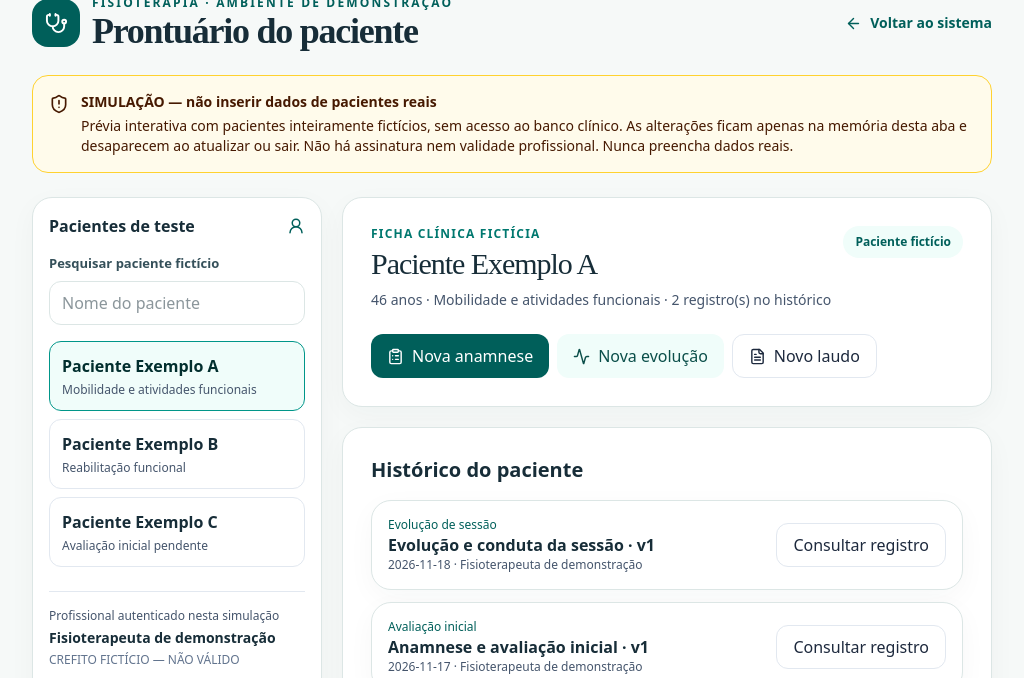
Test: prévia pública de prontuário com dados apenas fictícios › mostra o fluxo completo no navegador sem acessar nenhuma API clínica ou de simulação
This screenshot has width=1024, height=678.
Expected: the heading "Prontuário do paciente" is shown, 92,11 -> 453,51
Expected: the text "As alterações ficam apenas na memória desta aba" is shown, 81,116 -> 967,155
Click the button "Novo laudo" at (804, 356), box 732,334 -> 877,378
(page scrolled)
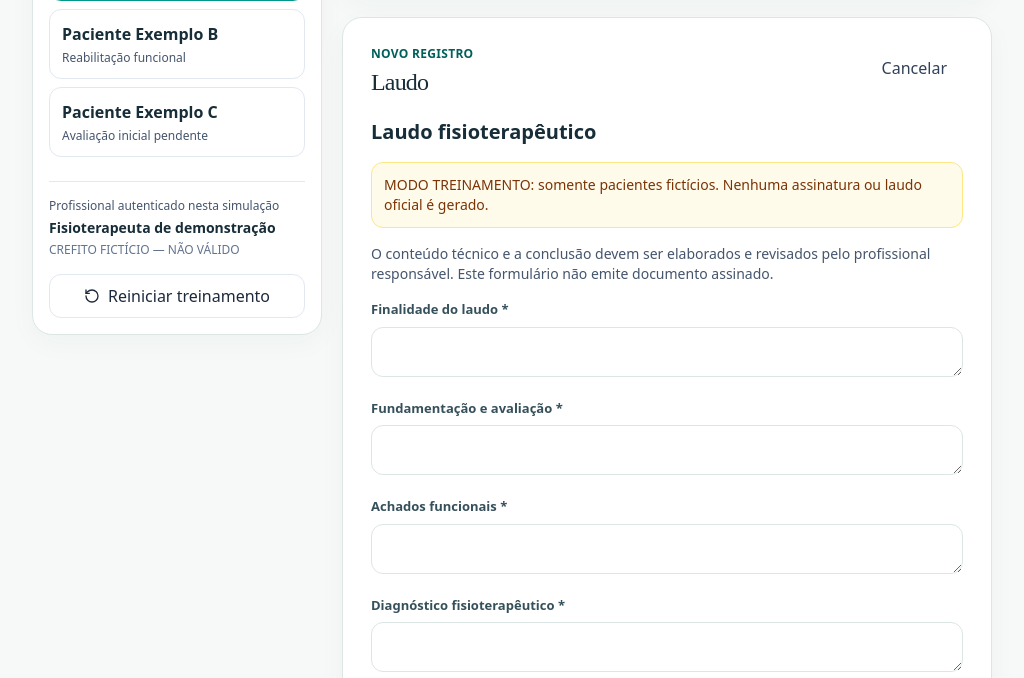
Type "Demonstração do fluxo de avaliação" into the text box labelled "Finalidade do laudo *" at (667, 352), box 371,326 -> 963,376
Type "Avaliação simulada" into the text box labelled "Fundamentação e avaliação *" at (667, 450), box 371,425 -> 963,475
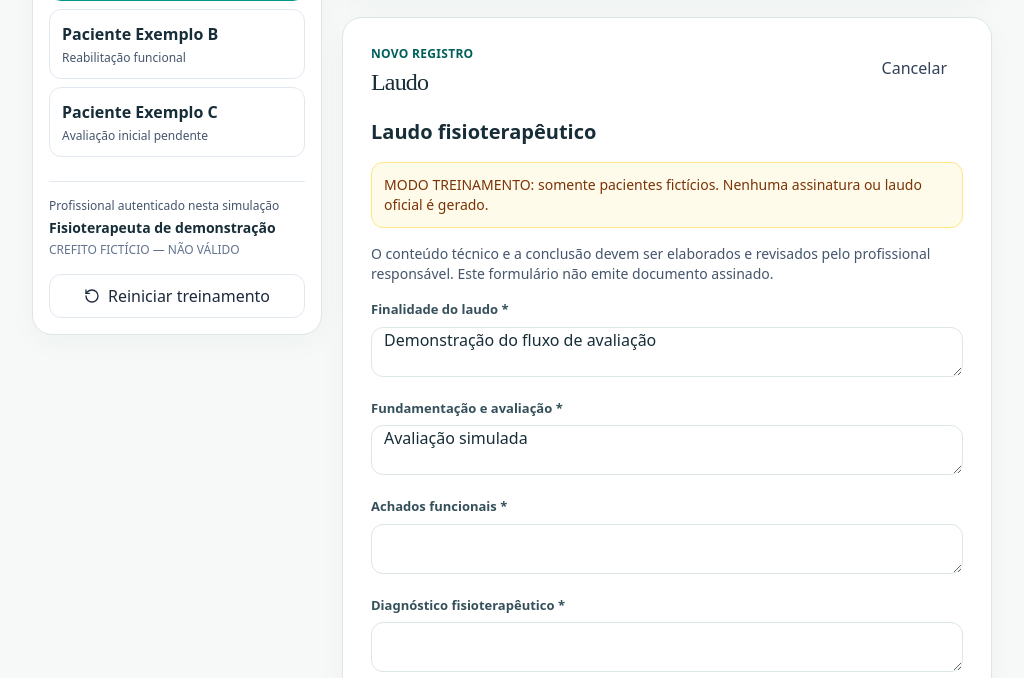
Type "Achados simulados" into the text box labelled "Achados funcionais *" at (667, 548), box 371,524 -> 963,574
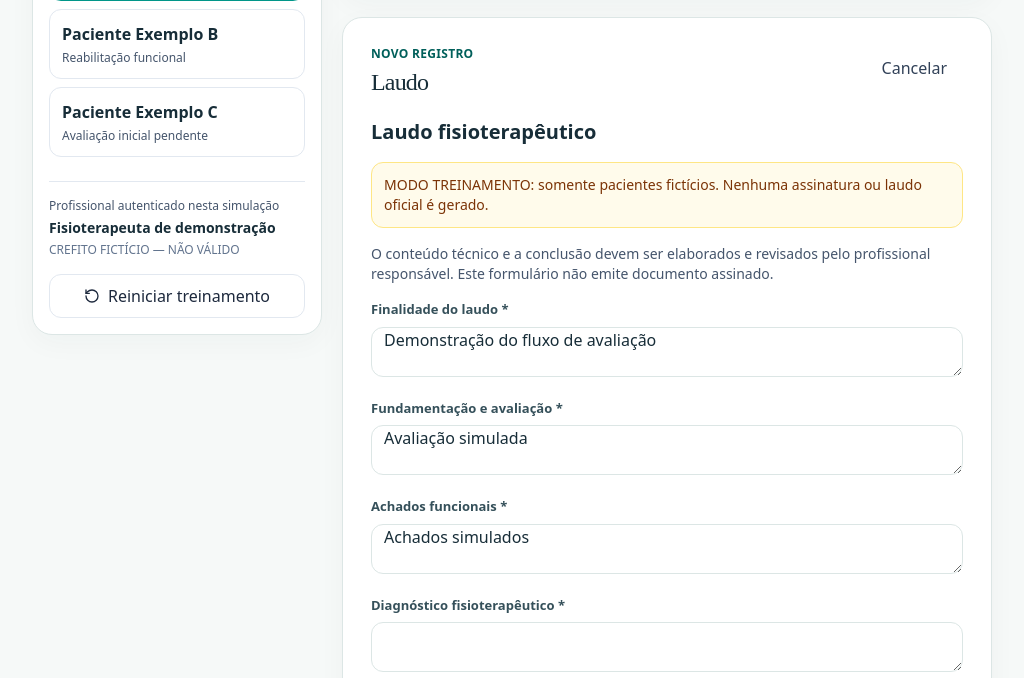
Type "Diagnóstico inteiramente fictício" into the text box labelled "Diagnóstico fisioterapêutico *" at (667, 647), box 371,622 -> 963,672
(page scrolled)
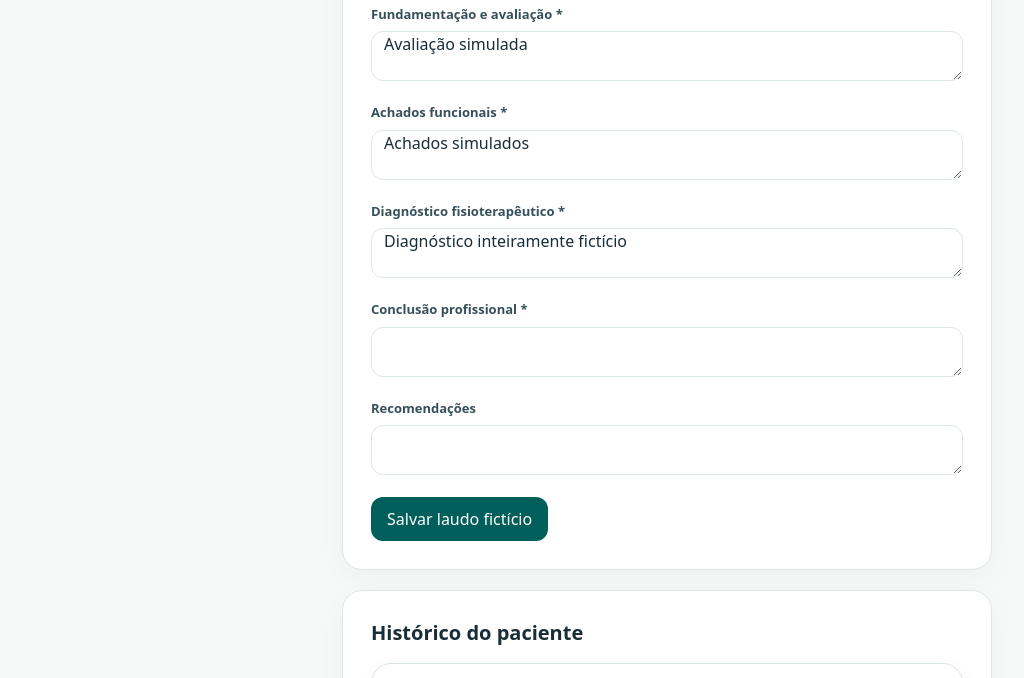
Type "Conclusão temporária" into the text box labelled "Conclusão profissional *" at (667, 352), box 371,326 -> 963,376
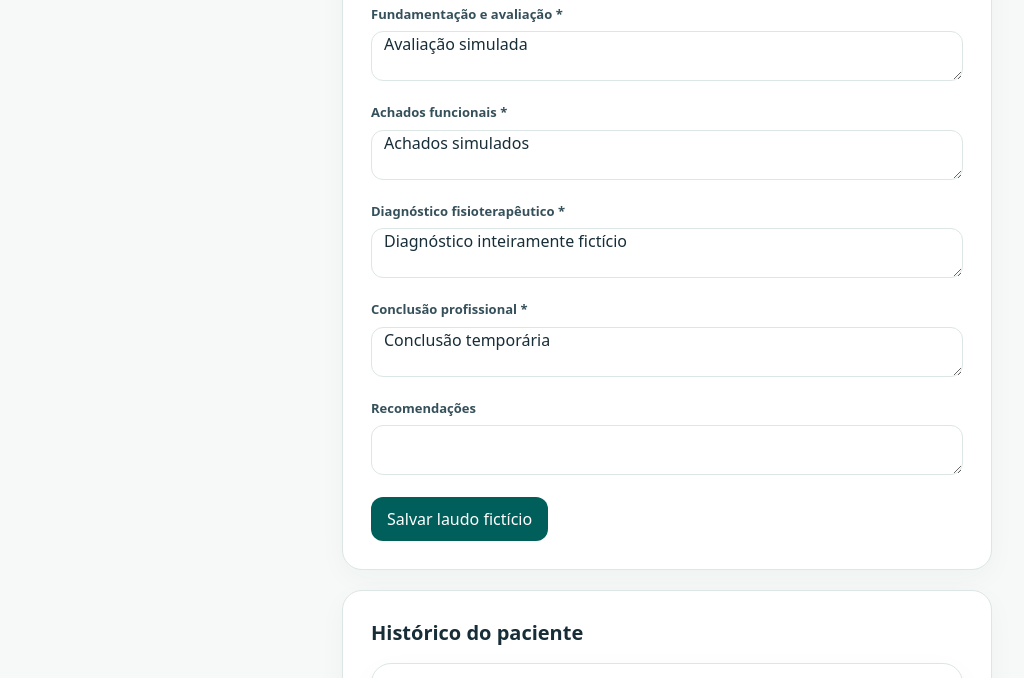
Click the button "Salvar laudo fictício" at (460, 519), box 371,497 -> 548,541
(page scrolled)
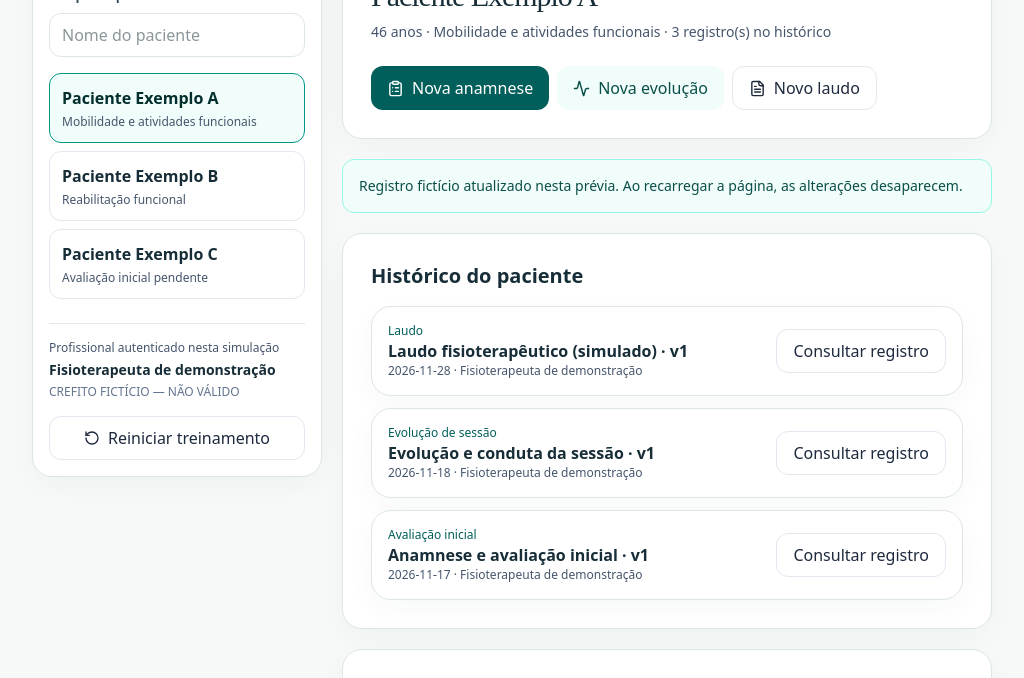
Expected: the text "Laudo fisioterapêutico (simulado) · v1" is shown, 388,339 -> 688,363
